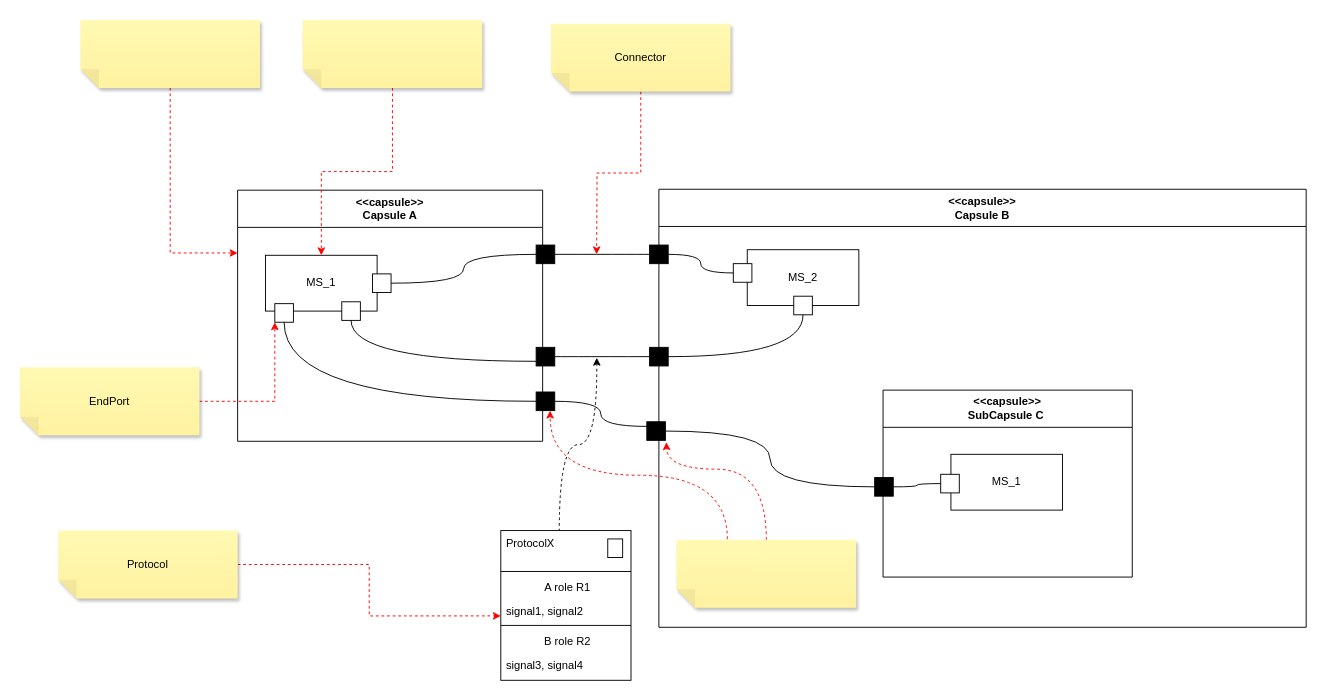
Some shapes in this 1322 by 697 pixel diagram are drawn without their labels. The shapes that lost their labels are listed below. From the top down, each one's centre as x and y in pixels, then its label:
[170,55]: Capsule
[393,55]: State Machine
[766,575]: RelayPort
